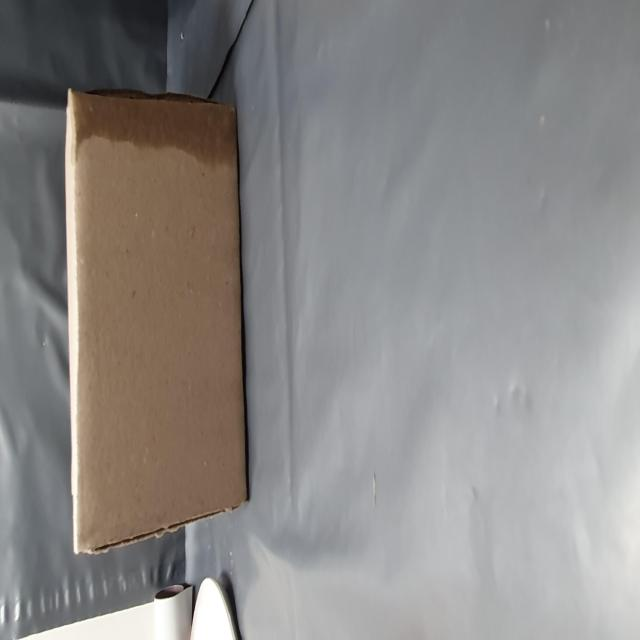wet: (248, 121, 315, 425)
